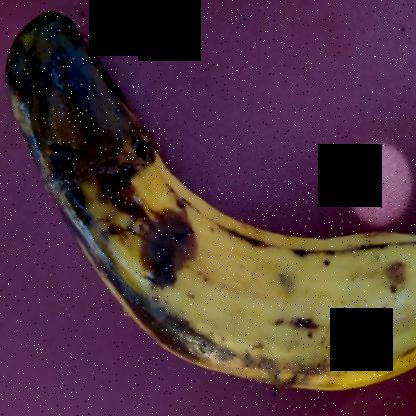rotten: (1, 1, 415, 414)
